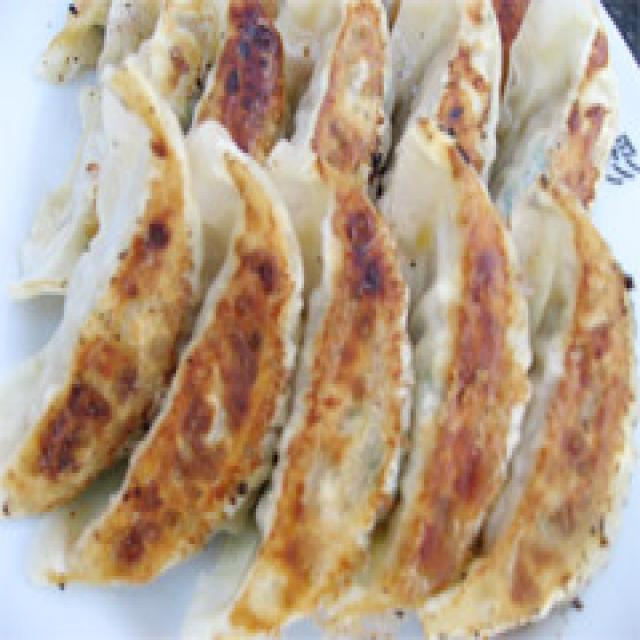带馅早点: (16, 0, 616, 633)
